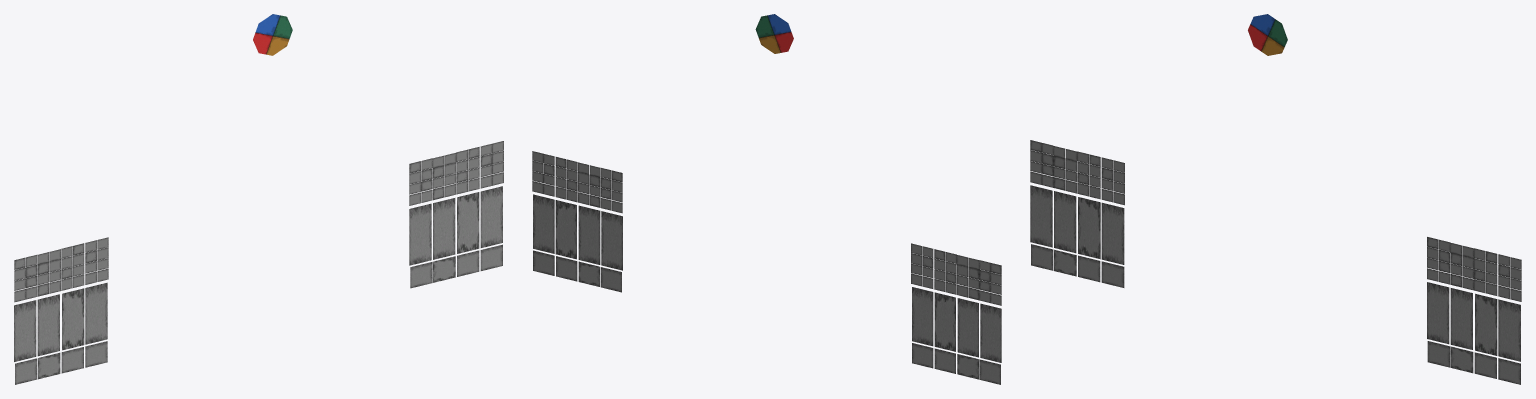
File: EingangshalleWindows.fbx
The picture shows the model from 3 angles, left to right: view 1: azimuth 30°, elevation 25°; view 2: azimuth 150°, elevation 25°; view 3: azimuth 330°, elevation 25°; orthographic projection. The views are drawn at different scales.
Parts seen in each view (by area): view 1: Cube_003; view 2: Cube_003; view 3: Cube_003.
Boxes of the visible parts, bbox=[...] form: Cube_003: bbox=[14, 14, 503, 384]; Cube_003: bbox=[532, 14, 1001, 384]; Cube_003: bbox=[1030, 14, 1521, 384].
Bounding box in the file's own units: 43.37 × 26.97 × 1.69.
